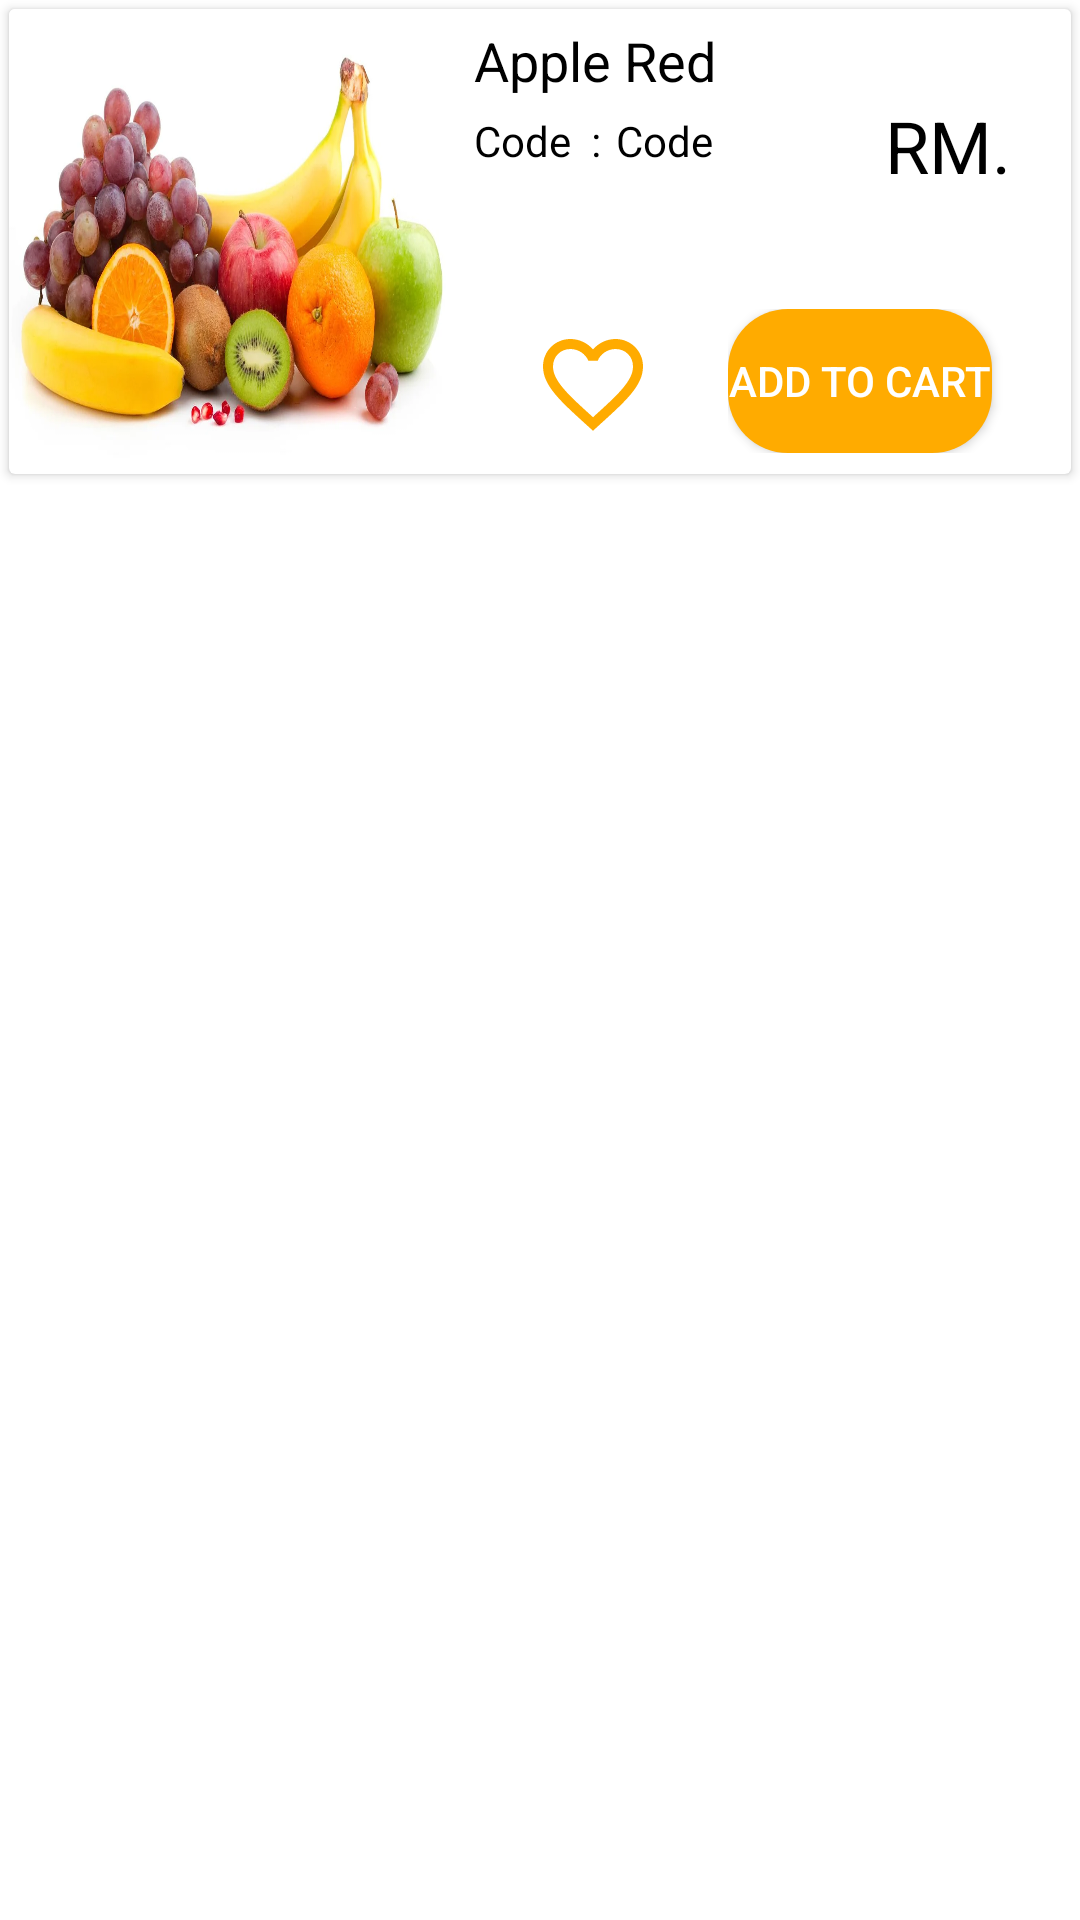

Named icons in this screenshot (1080×1920) and their centers, (x=x, y=y):
favorite botton: (x=593, y=385)
